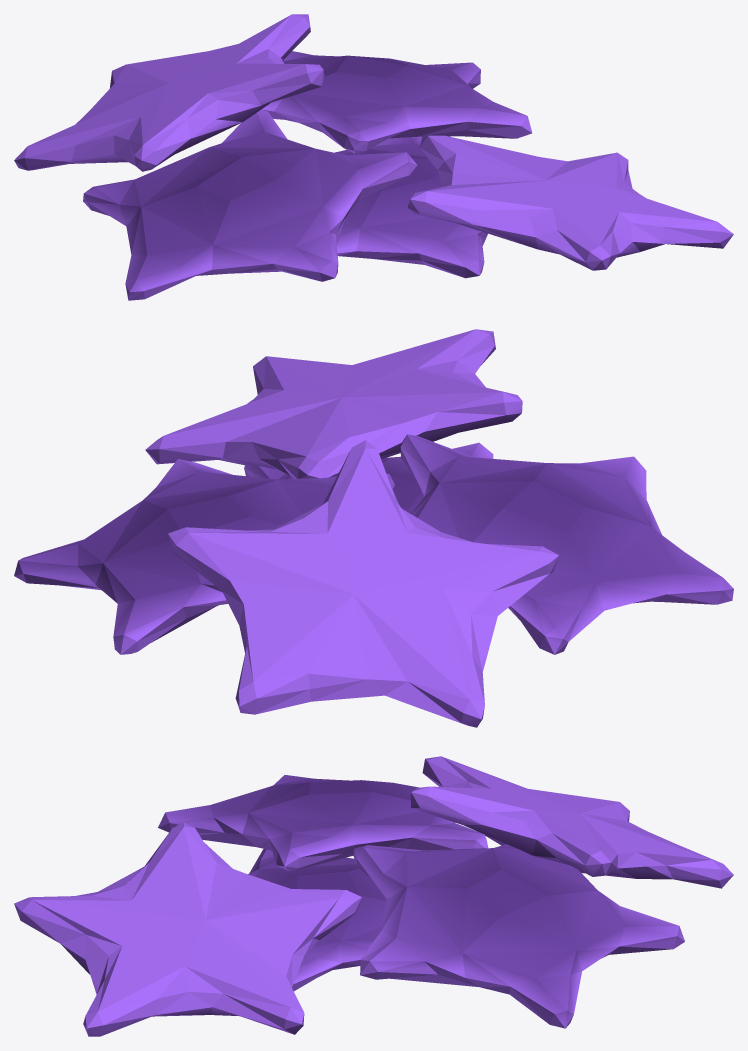
Rendered from SM_Starfish_9.fbx.
The picture shows the model from 3 angles, top to bottom: view 1: azimuth 30°, elevation 25°; view 2: azimuth 150°, elevation 25°; view 3: azimuth 270°, elevation 25°; orthographic projection. The views are drawn at different scales.
Parts seen in each view (by area): view 1: Starfish_9; view 2: Starfish_9; view 3: Starfish_9.
Part boxes in pixels (x1,y1,x2,y2): Starfish_9: (14,14,733,300); Starfish_9: (14,329,733,727); Starfish_9: (14,756,733,1036).
Bounding box in the file's own units: 42.55 × 10.36 × 51.18.
